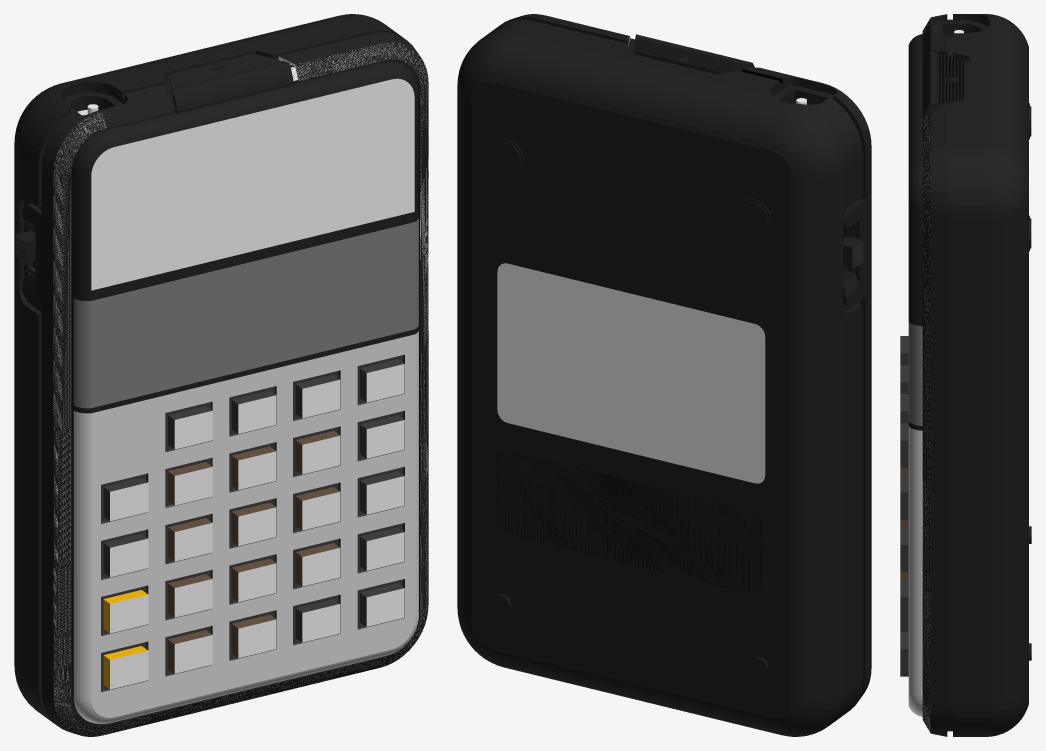
3 renders of one model, left to right at view 1: azimuth 30°, elevation 25°; view 2: azimuth 150°, elevation 25°; view 3: azimuth 270°, elevation 25°, orthographic. The views are drawn at different scales.
Parts seen in each view (by area): view 1: omron electronic calculator ms; view 2: omron electronic calculator ms; view 3: omron electronic calculator ms.
Part boxes in pixels (bbox=[...]): omron electronic calculator ms: bbox=[14, 14, 428, 736]; omron electronic calculator ms: bbox=[457, 14, 871, 736]; omron electronic calculator ms: bbox=[900, 14, 1031, 736].
Size of the model in its own units: 2.97 by 4.61 by 0.934.
